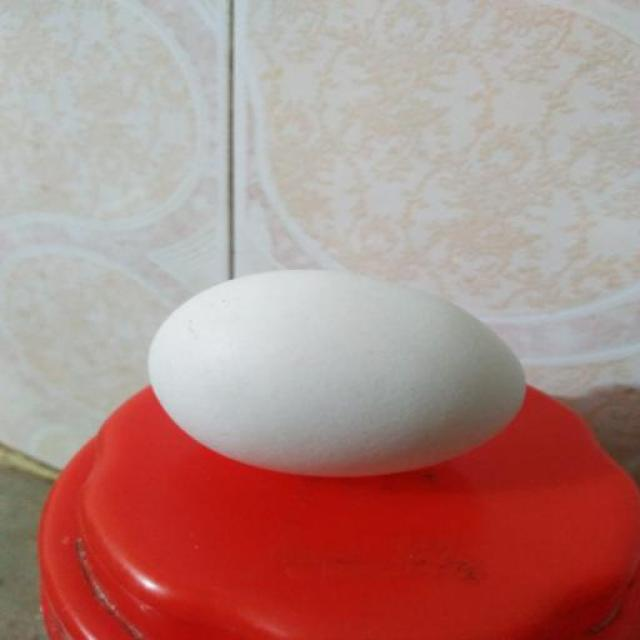telur: (146, 266, 524, 483)
